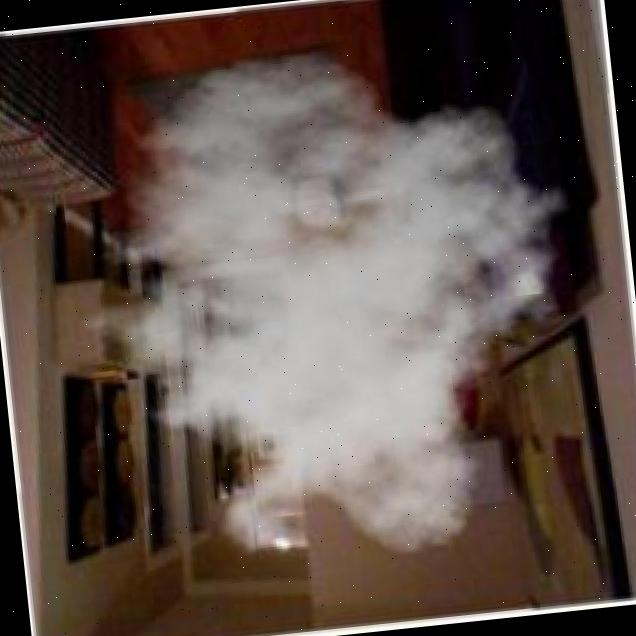smoke: (32, 24, 616, 593)
